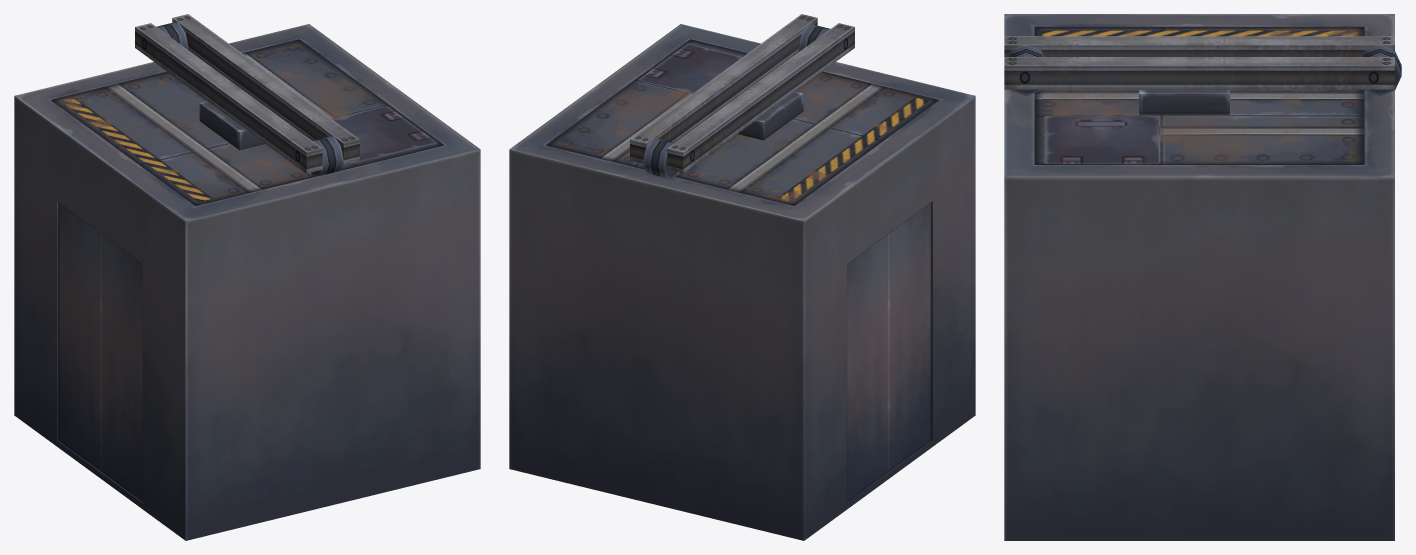
Rendered from elevator01.fbx.
3 views of the same model, side by side, from view 1: azimuth 30°, elevation 25°; view 2: azimuth 150°, elevation 25°; view 3: azimuth 270°, elevation 25° (orthographic). The views are drawn at different scales.
Visible parts, largest first — view 1: elevator, elevator_ceiling, elevator_door02_L, elevator_door02_R, elevator_hatch; view 2: elevator, elevator_ceiling, elevator_door02_R, elevator_door02_L, elevator_hatch; view 3: elevator, elevator_ceiling, elevator_hatch.
Boxes of the visible parts, bbox=[...] form: elevator: bbox=[14, 24, 480, 540]; elevator_ceiling: bbox=[51, 14, 444, 206]; elevator_door02_L: bbox=[58, 202, 100, 470]; elevator_door02_R: bbox=[101, 233, 142, 501]; elevator_hatch: bbox=[333, 106, 436, 163]; elevator: bbox=[509, 24, 975, 540]; elevator_ceiling: bbox=[545, 14, 938, 206]; elevator_door02_R: bbox=[889, 202, 931, 470]; elevator_door02_L: bbox=[847, 233, 888, 501]; elevator_hatch: bbox=[638, 43, 742, 93]; elevator: bbox=[1004, 14, 1394, 540]; elevator_ceiling: bbox=[1004, 26, 1401, 164]; elevator_hatch: bbox=[1045, 116, 1158, 163].
Size of the model in its own units: 258 by 300 by 264.
